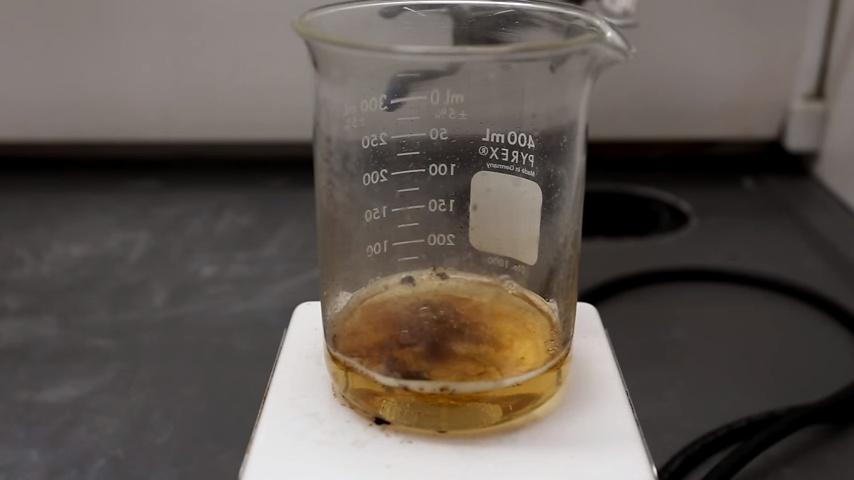Beaker: (289, 11, 636, 438)
